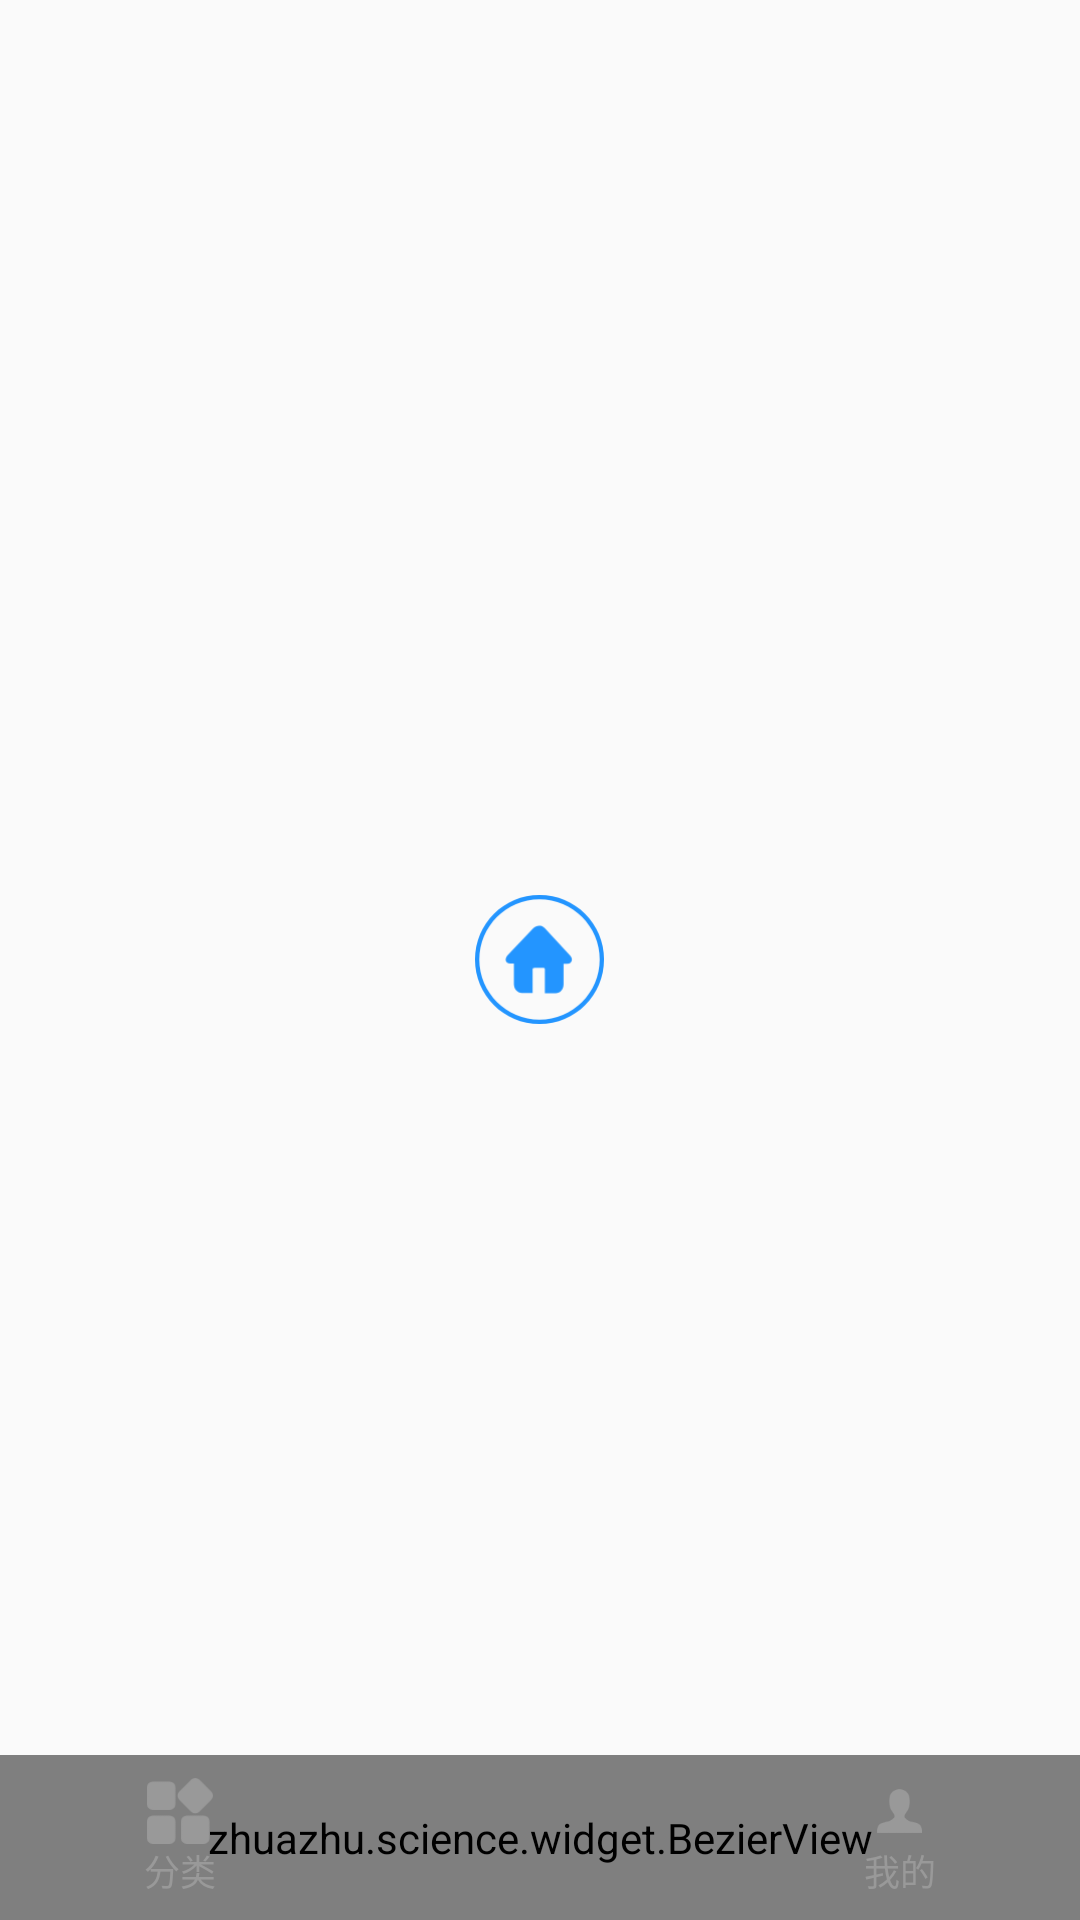

Locate icon controls on the screen. Image size 1080×1920, boxes as (x1, y1, x2, y2).
index: (475, 895, 604, 1024)
